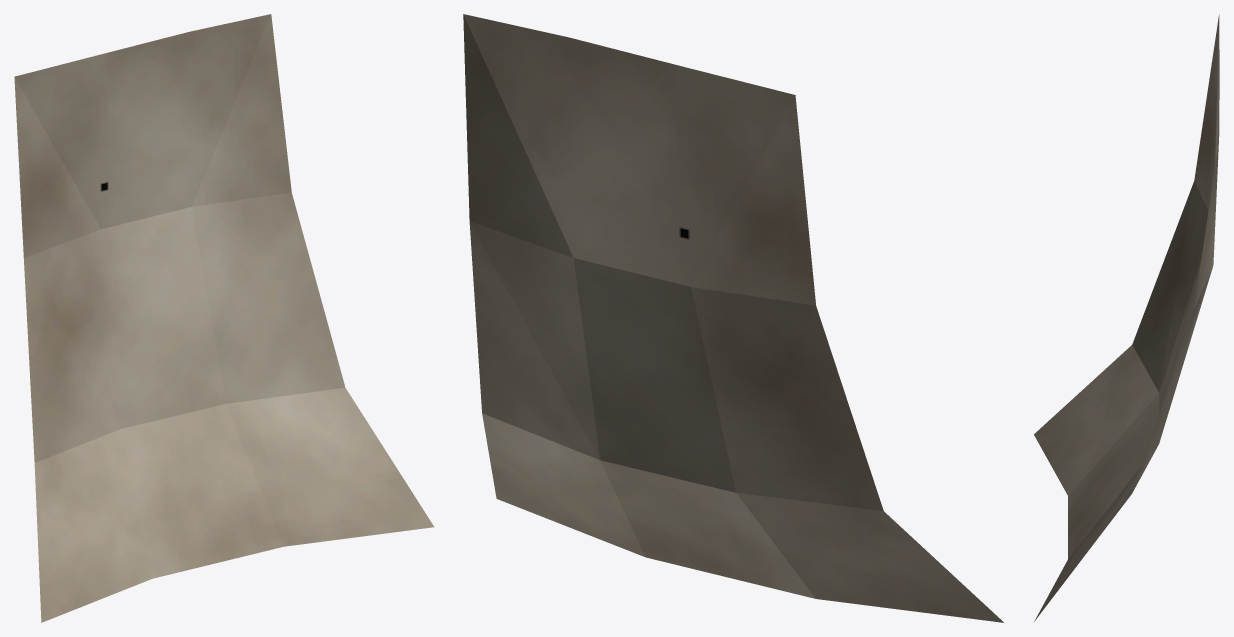
Rendered from web_02.fbx.
The picture shows the model from 3 angles, left to right: view 1: azimuth 30°, elevation 25°; view 2: azimuth 150°, elevation 25°; view 3: azimuth 270°, elevation 25°; orthographic projection. The views are drawn at different scales.
Visible parts, largest first — view 1: obj0.175; view 2: obj0.175; view 3: obj0.175.
Boxes of the visible parts, x1,y1,x2,y2 form: obj0.175: (14,14,434,622); obj0.175: (463,14,1003,622); obj0.175: (1034,14,1219,621).
Bounding box in the file's own units: 6.86 × 7.72 × 2.86.
